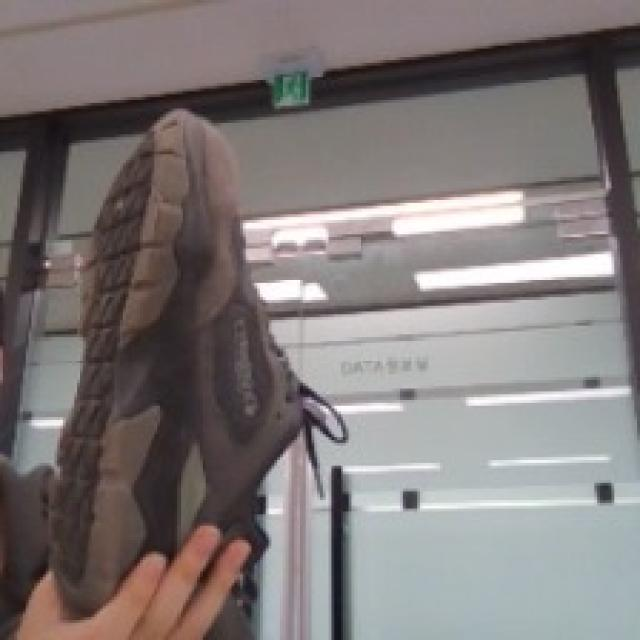shoe: (42, 78, 385, 640)
